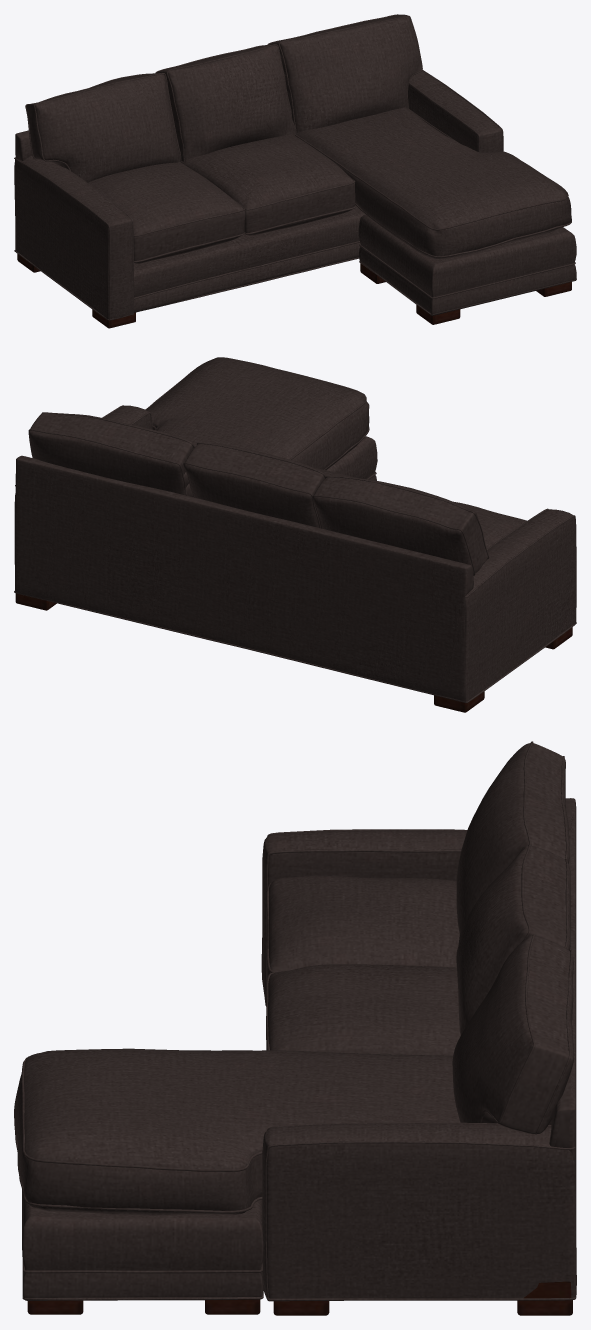
The model's file is stone_beam_dalton_sofa.glb.
3 renders of one model, top to bottom at view 1: azimuth 30°, elevation 25°; view 2: azimuth 150°, elevation 25°; view 3: azimuth 270°, elevation 25°, orthographic. The views are drawn at different scales.
Visible parts, largest first — view 1: RootNode; view 2: RootNode; view 3: RootNode.
Boxes of the visible parts, x1,y1,x2,y2 form: RootNode: (14, 14, 576, 328); RootNode: (14, 357, 576, 712); RootNode: (14, 741, 576, 1315).
Size of the model in its own units: 2.37 by 0.9728 by 1.79.
Materials: 1 (1 with a texture image).
